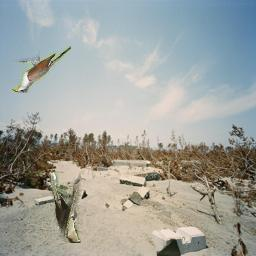Cuckoo: (13, 47, 72, 94), (49, 173, 81, 243)
